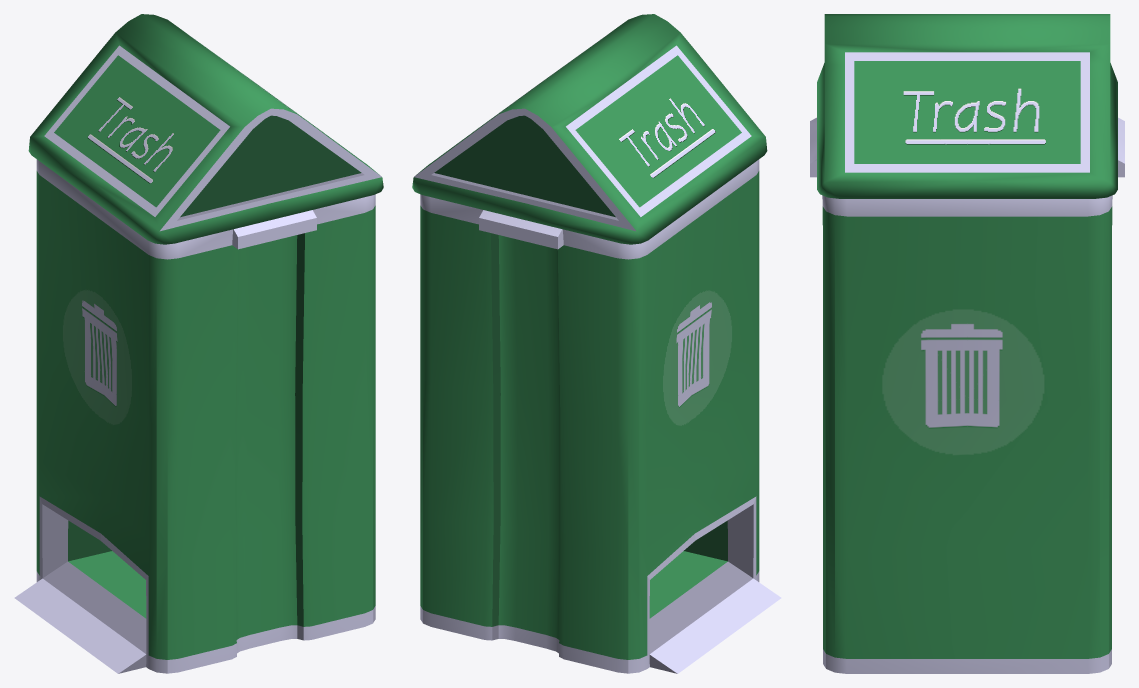
The model's file is Trash.fbx.
3 views of the same model, side by side, from view 1: azimuth 30°, elevation 25°; view 2: azimuth 150°, elevation 25°; view 3: azimuth 270°, elevation 25° (orthographic). The views are drawn at different scales.
Parts seen in each view (by area): view 1: Cube, Cube.001, Cube.002; view 2: Cube, Cube.001, Cube.002; view 3: Cube, Cube.002, Cube.001.
Part boxes in pixels (x1,y1,x2,y2): Cube: [14, 159, 375, 673]; Cube.001: [28, 14, 383, 244]; Cube.002: [44, 36, 357, 216]; Cube: [420, 159, 781, 673]; Cube.001: [412, 14, 767, 244]; Cube.002: [438, 36, 751, 216]; Cube: [810, 117, 1124, 673]; Cube.002: [845, 52, 1089, 172]; Cube.001: [817, 14, 1117, 198].
Bounding box in the file's own units: 241 × 485 × 232.
